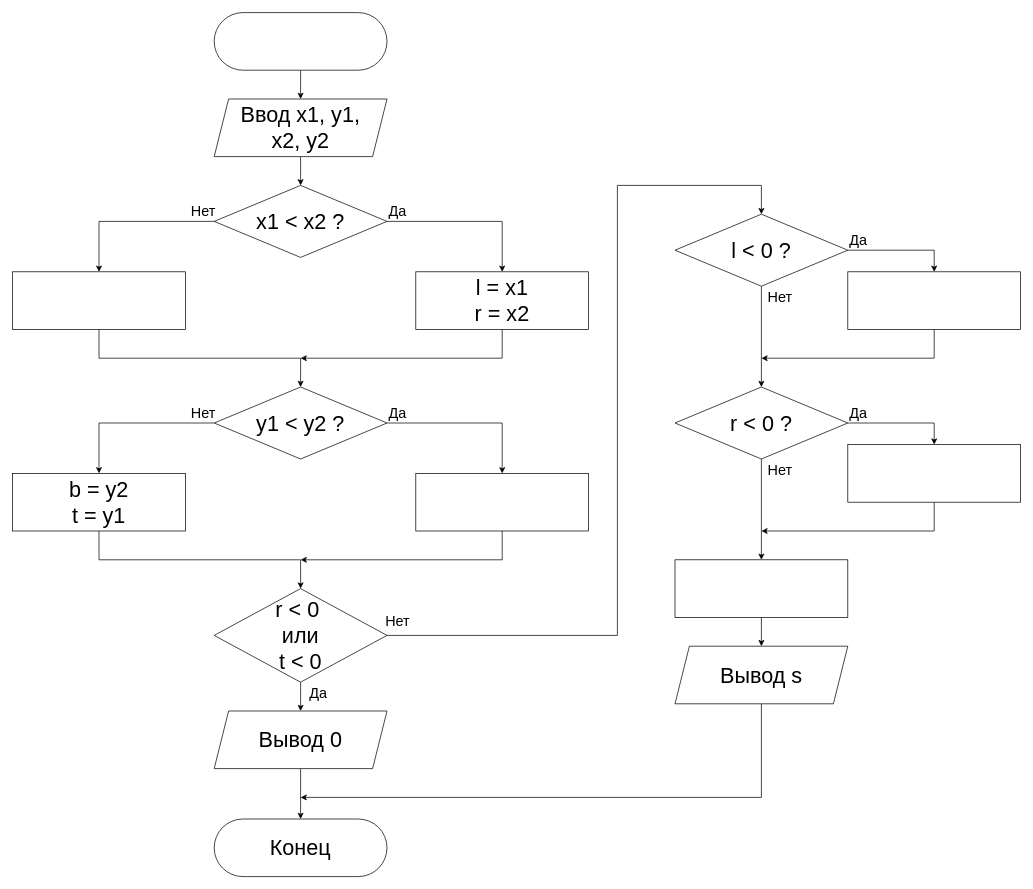
This 1033x889 diagram has some shape labels left out. Each missing label, with the centre of its shape:
b = y1 t = y2: (502,502)
l = 0: (934,300)
l = x2 r = x1: (98,300)
r = 0: (934,473)
s = (r-l)*(t-b): (761,588)
Начало: (300,41)
